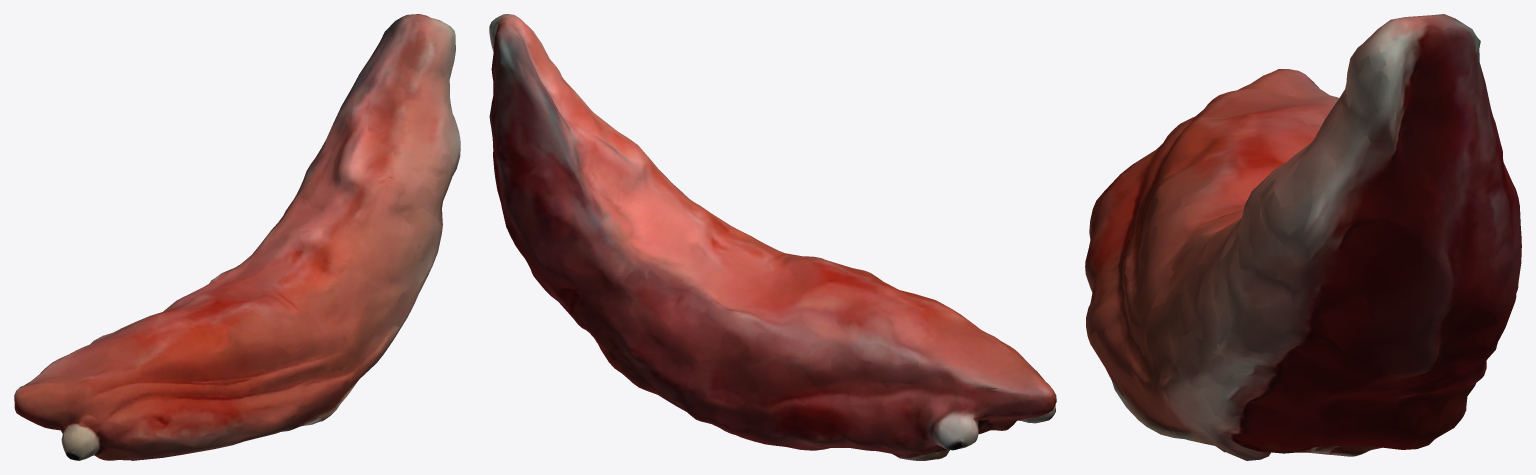
File: yamWalkyamWalk10.fbx
3 renders of one model, left to right at view 1: azimuth 30°, elevation 25°; view 2: azimuth 150°, elevation 25°; view 3: azimuth 270°, elevation 25°, orthographic. The views are drawn at different scales.
Visible parts, largest first — view 1: yamWalk10; view 2: yamWalk10; view 3: yamWalk10.
Boxes of the visible parts, x1=… form: yamWalk10: x1=14, y1=14, x2=460, y2=460; yamWalk10: x1=489, y1=14, x2=1056, y2=460; yamWalk10: x1=1085, y1=14, x2=1521, y2=460.
Bounding box in the file's own units: 0.0893 × 0.0601 × 0.0394.
1 material, 1 textured.
